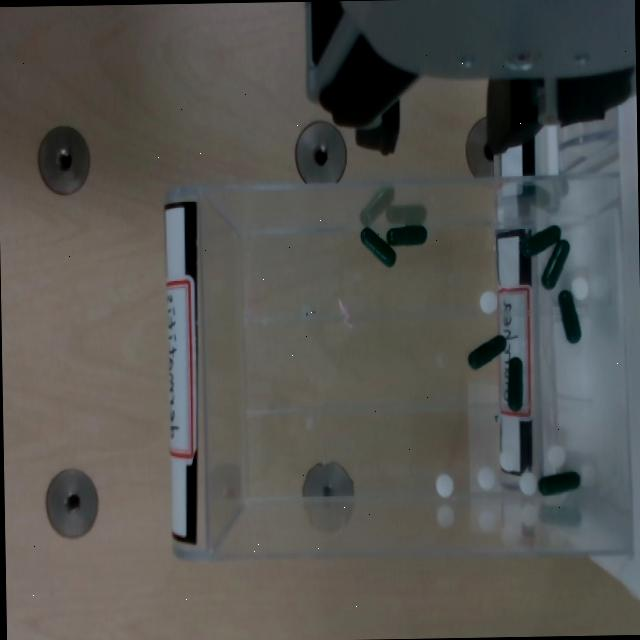ganakan_tab: (478, 288, 498, 315), (545, 441, 565, 468), (475, 462, 495, 489), (569, 274, 588, 300), (433, 471, 452, 496), (498, 447, 517, 471), (518, 470, 536, 495)
monodoxy_cap: (358, 224, 396, 269), (540, 237, 570, 290), (465, 334, 506, 372), (517, 224, 559, 259), (358, 226, 394, 266), (555, 290, 580, 346), (540, 240, 568, 289), (466, 334, 504, 369), (535, 470, 579, 499), (521, 225, 559, 256), (557, 290, 579, 343), (385, 223, 427, 248), (537, 471, 578, 496), (505, 355, 522, 410), (385, 224, 425, 245), (506, 357, 521, 410)
